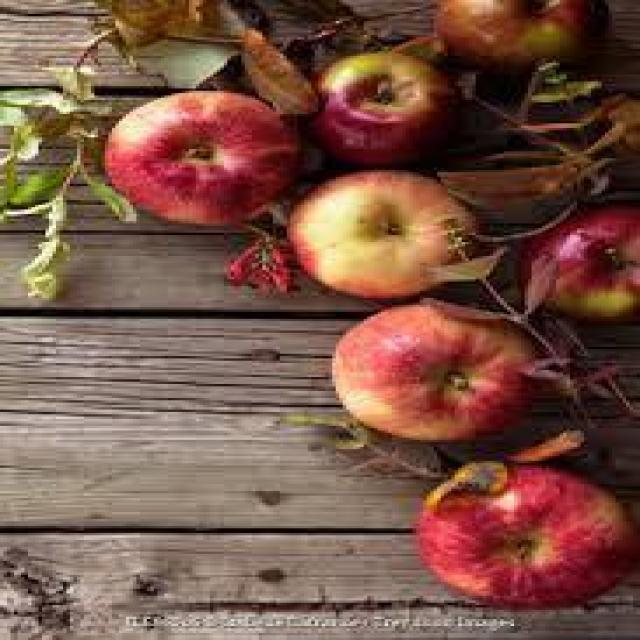maca: (292, 298, 550, 440), (240, 168, 492, 300), (99, 95, 301, 244), (411, 477, 636, 608), (524, 188, 640, 332), (307, 62, 461, 162), (408, 0, 597, 58)
